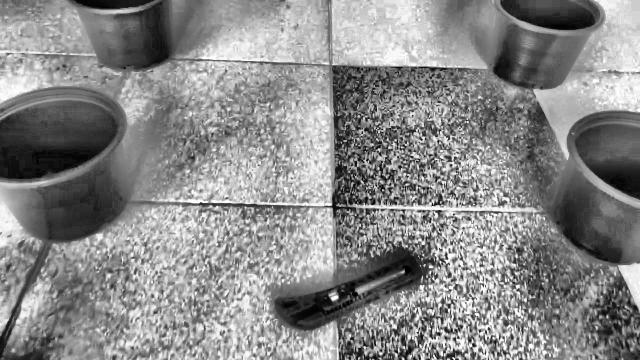pot: (0, 87, 130, 243), (550, 111, 640, 266), (489, 0, 606, 90), (64, 0, 176, 71)
